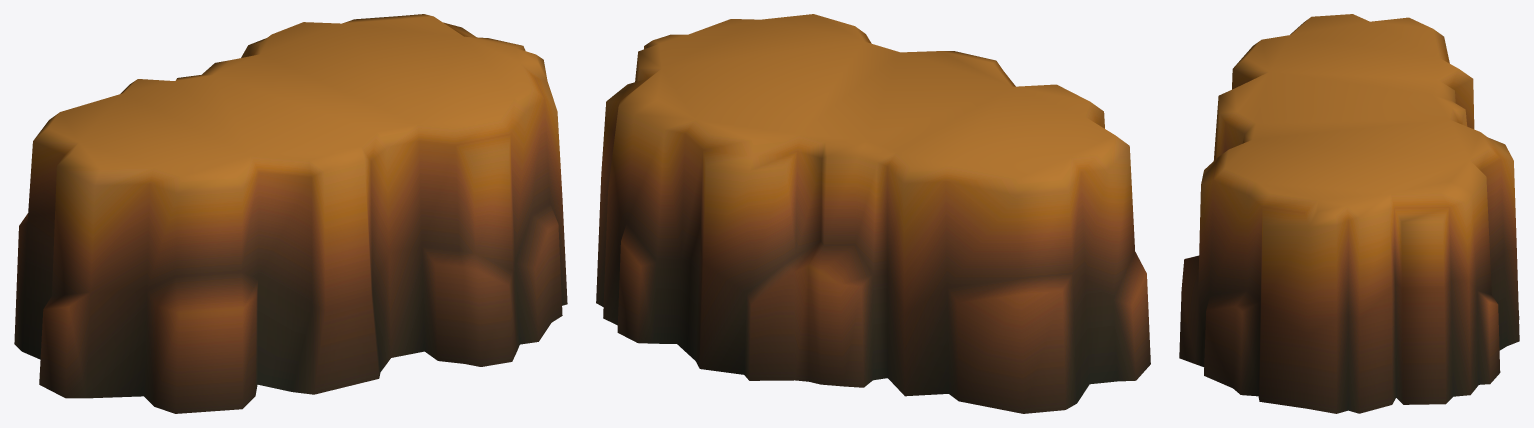
Rendered from m_Cliff03_B.fbx.
3 views of the same model, side by side, from view 1: azimuth 30°, elevation 25°; view 2: azimuth 150°, elevation 25°; view 3: azimuth 270°, elevation 25° (orthographic). The views are drawn at different scales.
Parts seen in each view (by area): view 1: m_Cliff03_B; view 2: m_Cliff03_B; view 3: m_Cliff03_B.
Part boxes in pixels (x1,y1,x2,y2): m_Cliff03_B: [14, 14, 567, 413]; m_Cliff03_B: [596, 14, 1150, 413]; m_Cliff03_B: [1179, 14, 1519, 413].
Size of the model in its own units: 2406 by 1000 by 1577.
